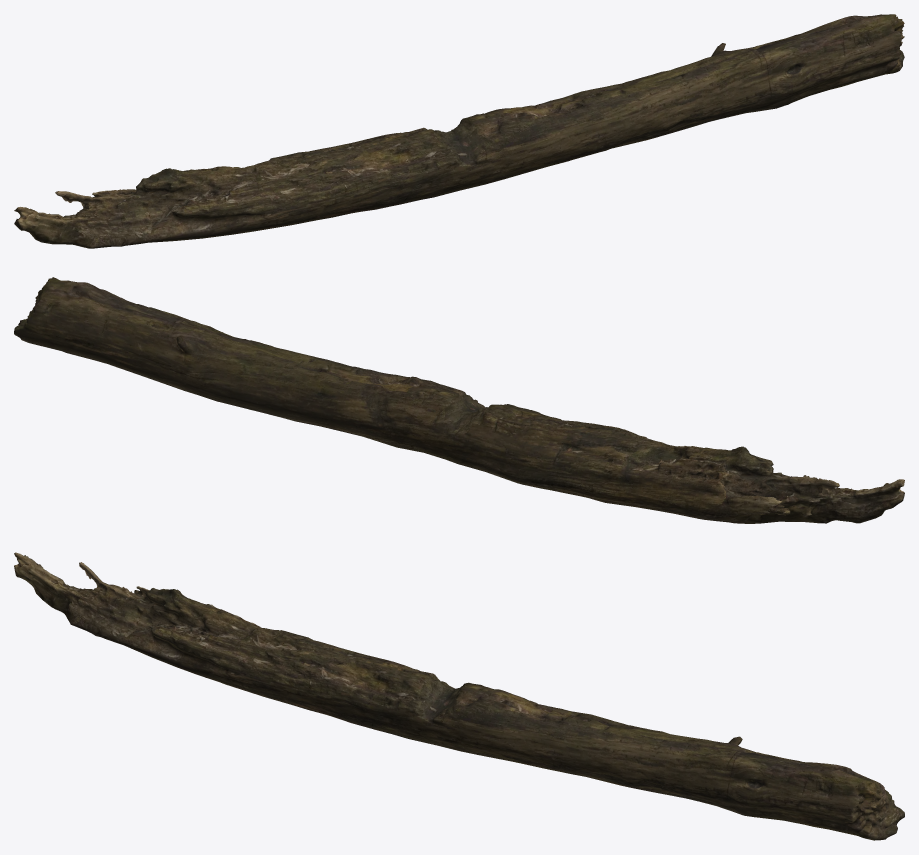
Rendered from deadwood.glb.
3 renders of one model, top to bottom at view 1: azimuth 30°, elevation 25°; view 2: azimuth 150°, elevation 25°; view 3: azimuth 330°, elevation 25°, orthographic.
Visible parts, largest first — view 1: dead_tree_trunk; view 2: dead_tree_trunk; view 3: dead_tree_trunk.
Part boxes in pixels (x1=…): dead_tree_trunk: x1=14, y1=14, x2=904, y2=248; dead_tree_trunk: x1=14, y1=277, x2=904, y2=523; dead_tree_trunk: x1=14, y1=552, x2=904, y2=840.
Size of the model in its own units: 3.05 by 0.29 by 0.2775.
Materials: 1 (1 with a texture image).
